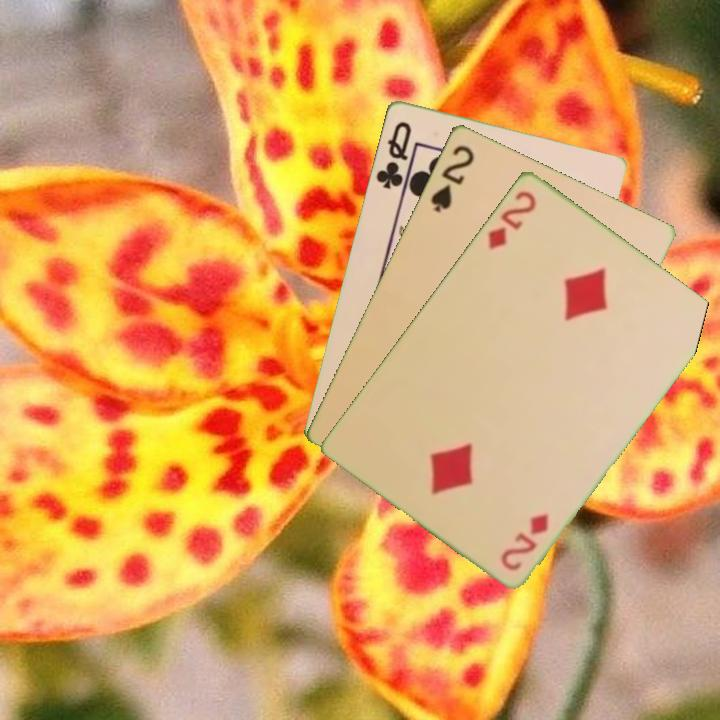2d: (496, 508, 552, 574), (484, 186, 539, 252)
2s: (427, 141, 477, 215)
Qc: (372, 117, 414, 192)
